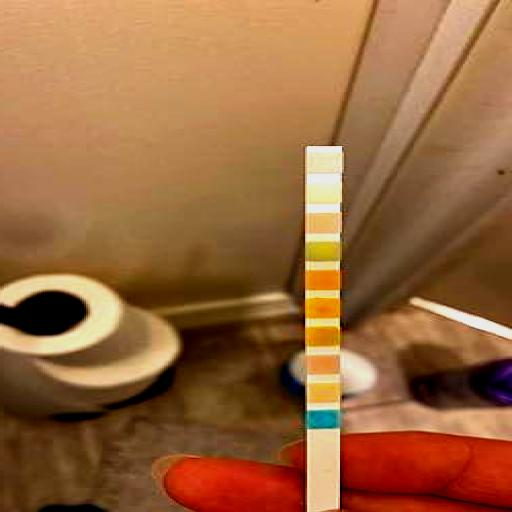Bilirubin: (308, 384, 338, 402)
Blood: (307, 299, 339, 318)
Glucose: (306, 412, 338, 428)
Ketone: (308, 356, 338, 374)
Leukocytes: (306, 153, 342, 173)
Nitrite: (306, 184, 342, 204)
Protein: (306, 243, 340, 261)
SpGravity: (308, 328, 338, 346)
Urobilinogen: (306, 214, 340, 233)
pH: (305, 272, 339, 290)
strip: (304, 146, 342, 508)
